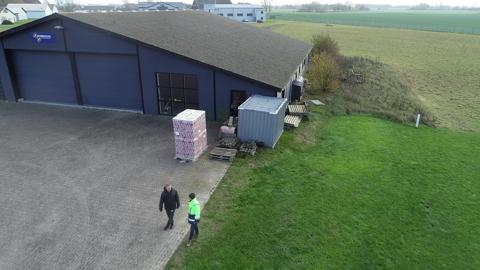RockwoolPallet: (172, 108, 209, 162)
